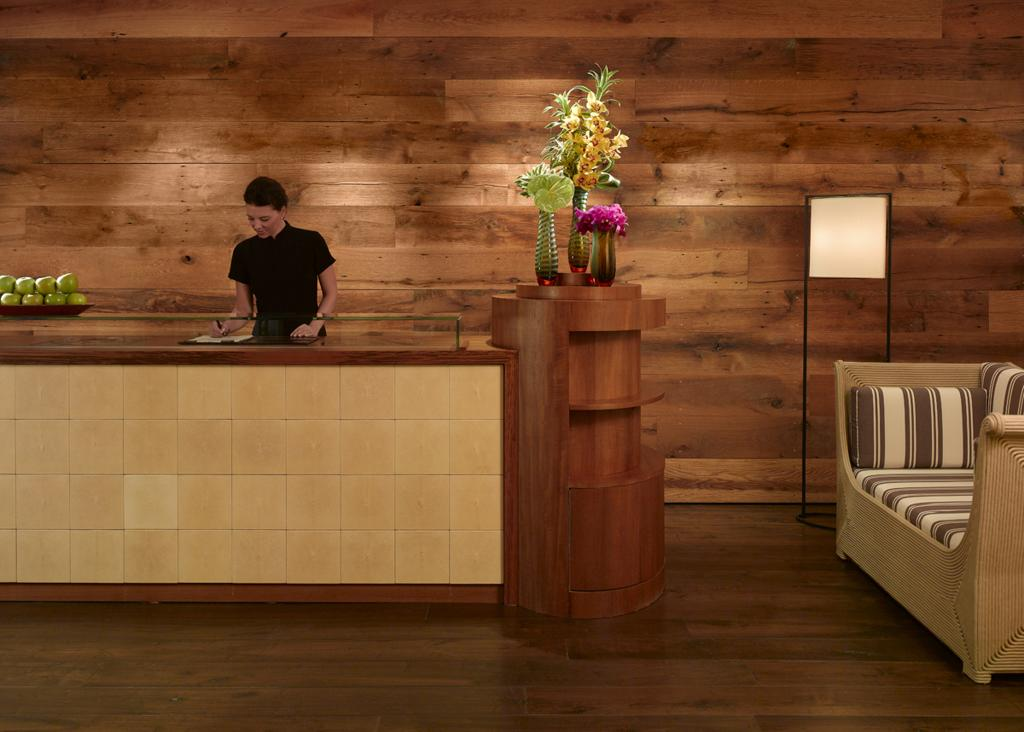face: (244, 201, 279, 238)
